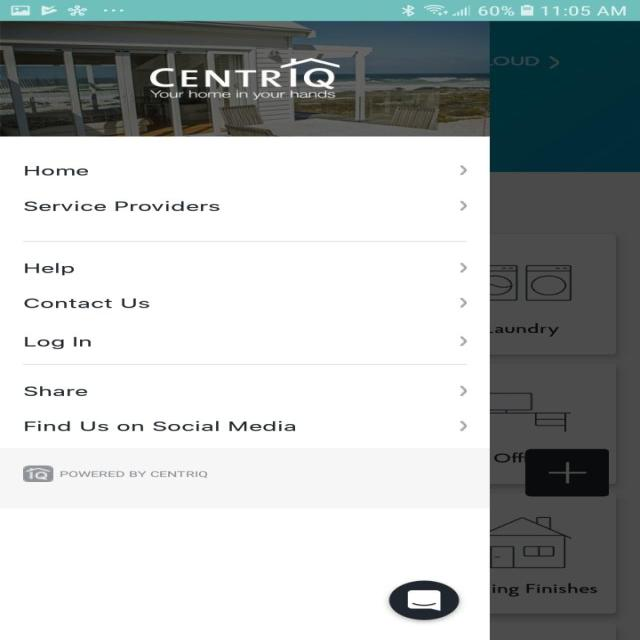Drawer: (0, 21, 490, 639)
Icon: (388, 580, 460, 620), (458, 298, 467, 308), (458, 420, 466, 431), (458, 262, 466, 272), (458, 200, 466, 210), (458, 336, 466, 346), (459, 385, 466, 396), (459, 165, 466, 175)
Image: (150, 57, 340, 100), (22, 465, 54, 482)
Text: (24, 420, 295, 431), (23, 201, 220, 211), (23, 298, 149, 308), (59, 470, 208, 478), (24, 337, 91, 349), (25, 165, 89, 176), (25, 262, 75, 276), (23, 386, 87, 396)
